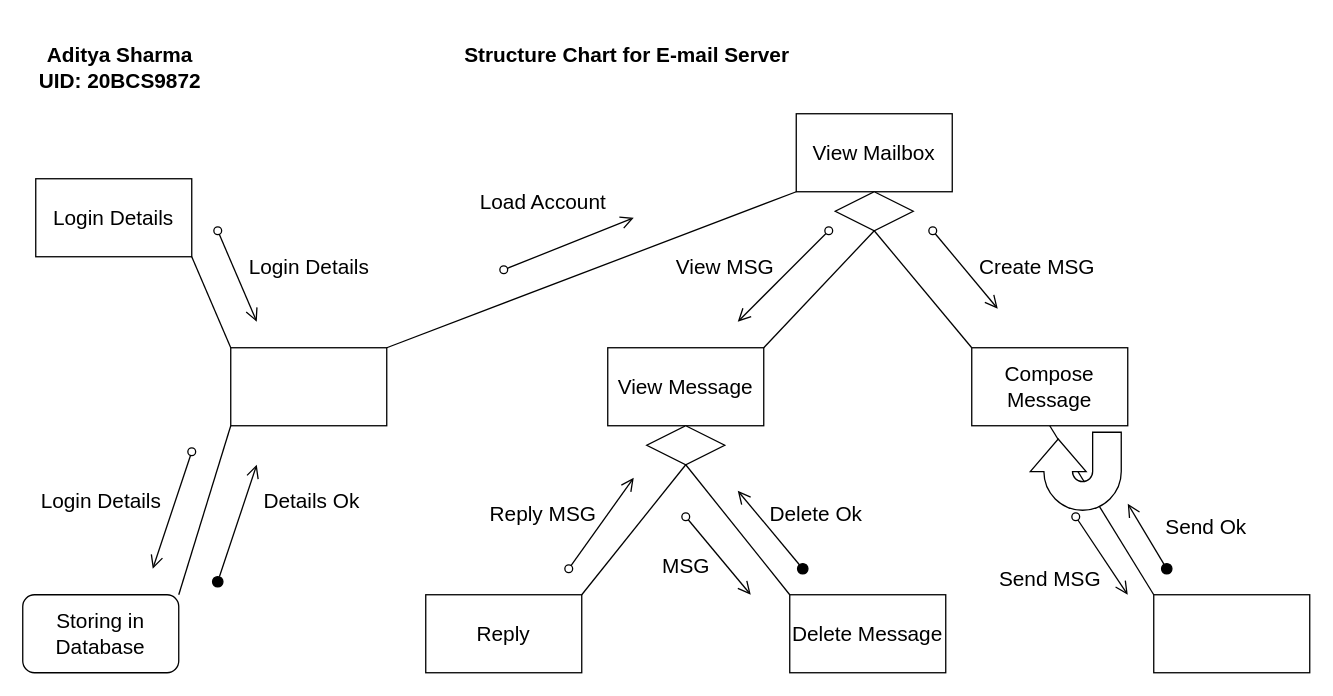
Image size: 1333x696. Some labels were removed from this diagram. The centre of each missing label's shape, as x and y in pixels:
Send Message: [1231,633]
Verify Login Details: [308,386]
